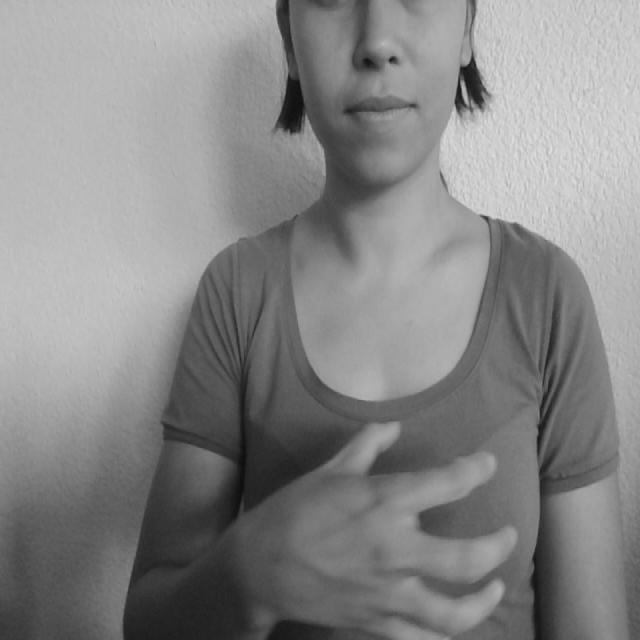Anne: (216, 407, 597, 640)
